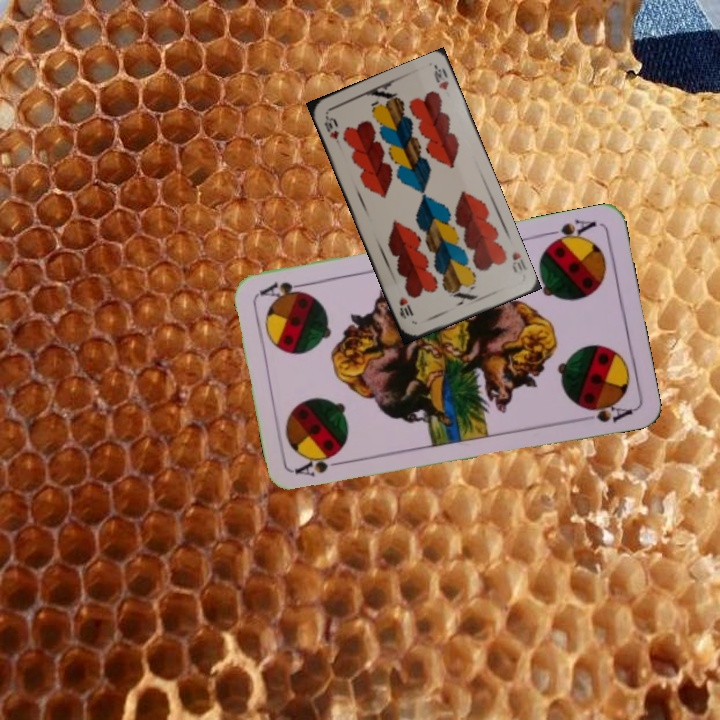H10: (320, 111, 342, 142), (508, 248, 529, 275)
SA: (541, 215, 599, 249), (291, 451, 350, 479)
